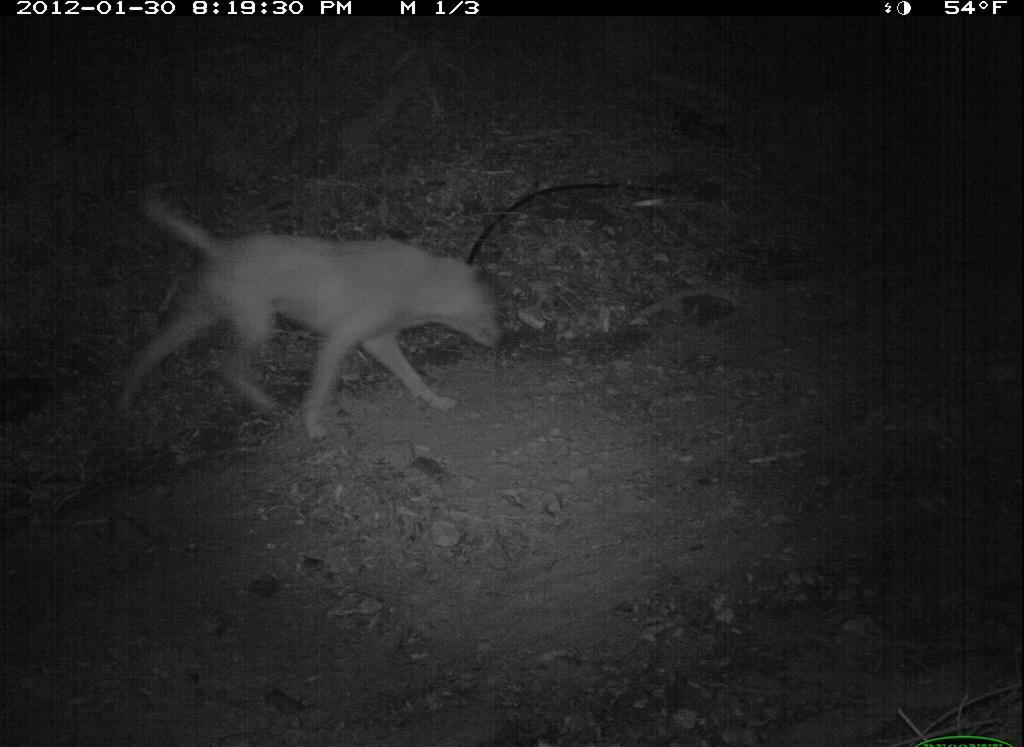dog: (120, 186, 506, 432)
